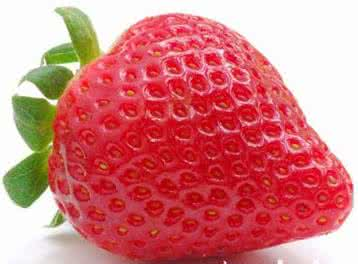strawberry: (29, 7, 358, 257)
